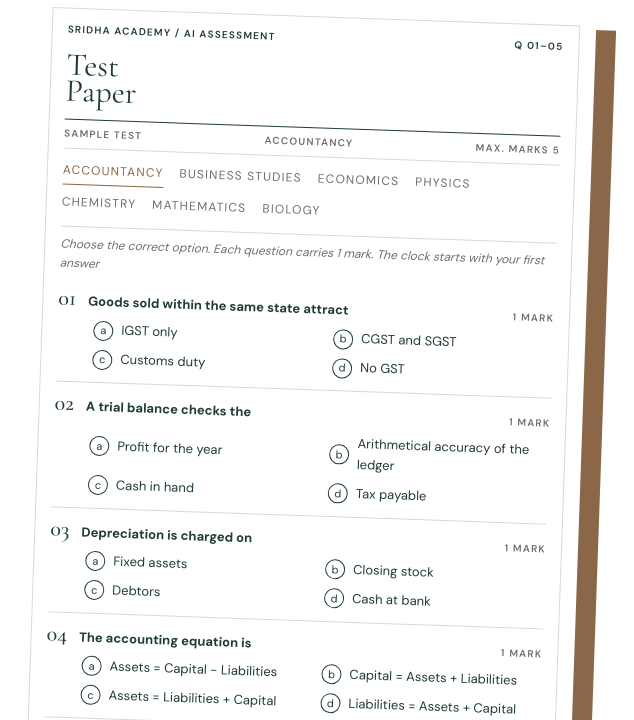
Scenario: SampleTestPaper › starts the five-minute clock on the first answer and marks the paper when time runs out
Click the radio button labelled "b CGST and SGST": x=394, y=340 [332,329,456,351]
Wait 360000 ms
(page scrolled)
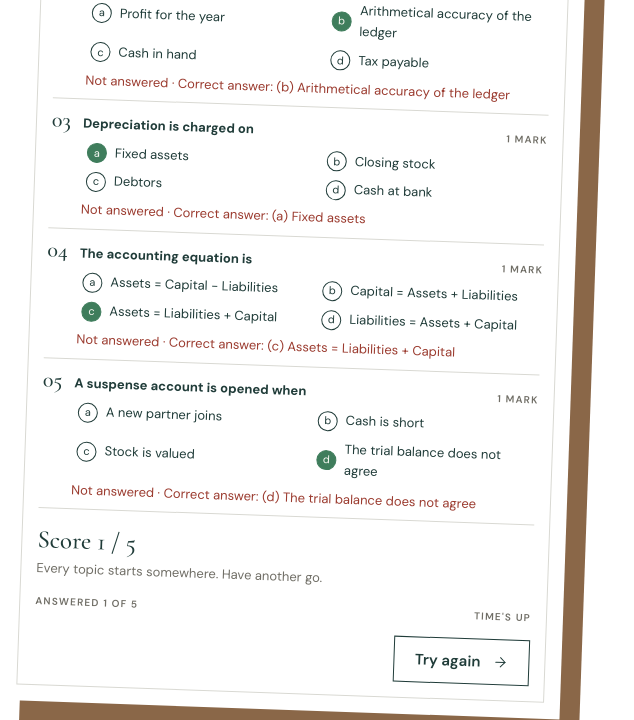
expect the text "Time's up" is shown: met, box [473,611,531,625]
expect the text "Score 1 / 5" is shown: met, box [36,524,136,558]
expect the button "Try again" is shown: met, box [393,636,530,687]
